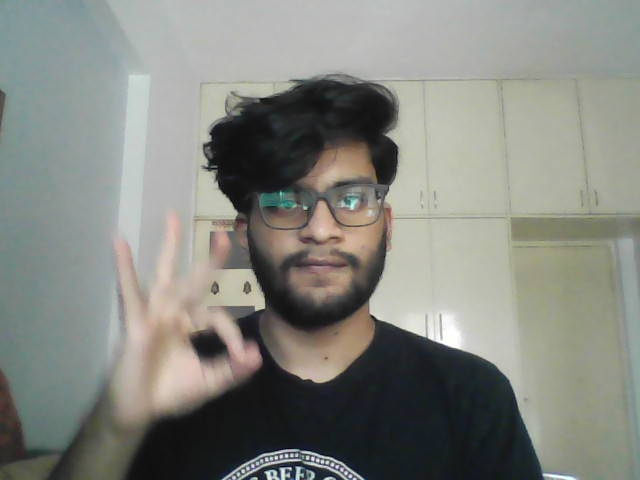Ok: (90, 208, 267, 426)
